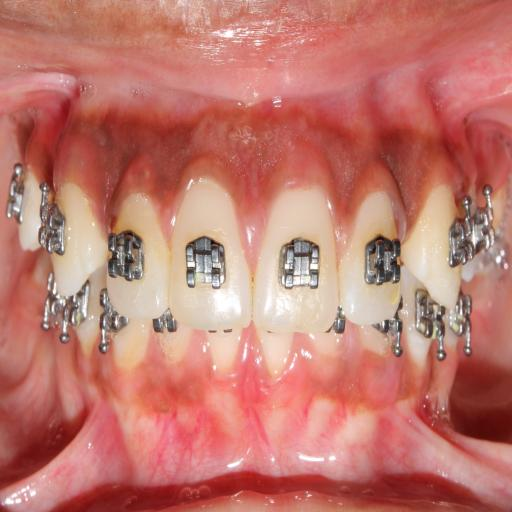correct_brace: (273, 220, 324, 302), (180, 226, 232, 297), (361, 231, 404, 293), (37, 192, 72, 258), (107, 227, 148, 281), (448, 216, 475, 274)
incorrect_brace: (341, 190, 405, 332), (106, 192, 171, 322)
